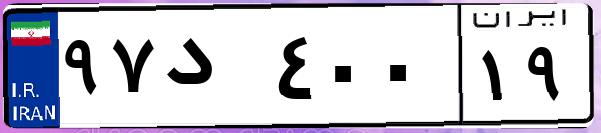0: (385, 28, 445, 110), (330, 28, 385, 110)
1: (475, 38, 525, 113)
4: (270, 28, 330, 110)
7: (110, 28, 158, 98)
9: (57, 26, 110, 100), (525, 38, 570, 115)
د: (158, 20, 270, 120)
